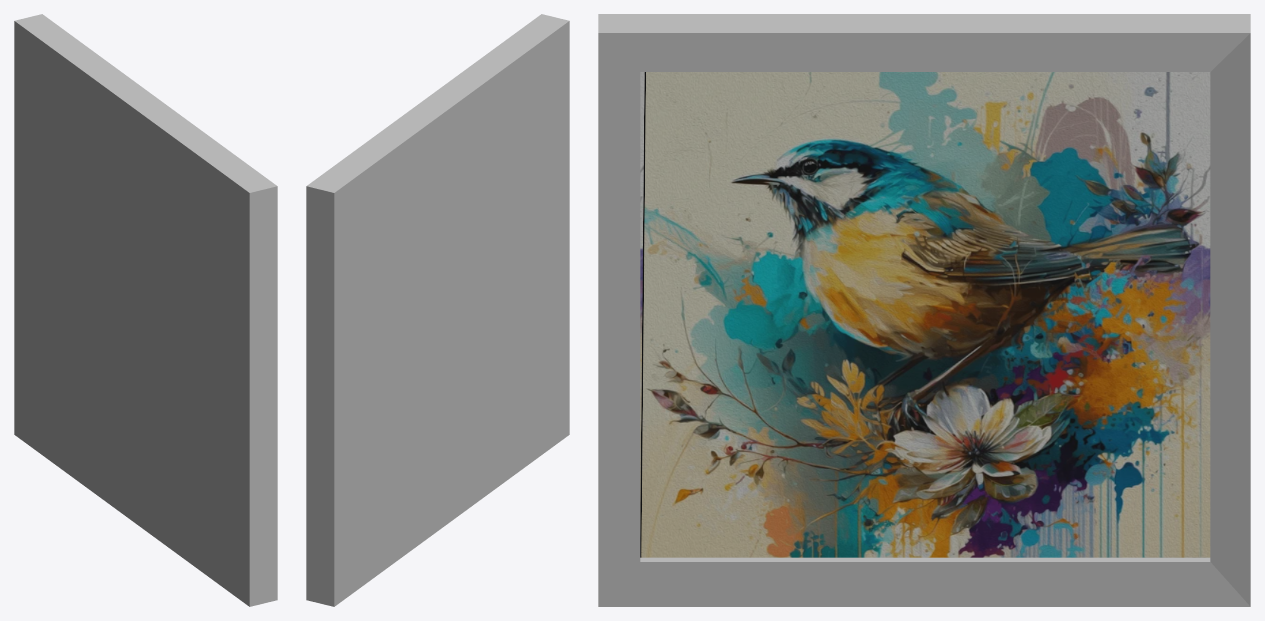
The model's file is bird.fbx.
3 renders of one model, left to right at view 1: azimuth 30°, elevation 25°; view 2: azimuth 150°, elevation 25°; view 3: azimuth 270°, elevation 25°, orthographic. The views are drawn at different scales.
Parts seen in each view (by area): view 1: Cube.001; view 2: Cube.001; view 3: Cube, Cube.001.
Boxes of the visible parts, bbox=[...] form: Cube.001: bbox=[14, 14, 277, 606]; Cube.001: bbox=[306, 14, 569, 606]; Cube: bbox=[640, 72, 1210, 557]; Cube.001: bbox=[598, 14, 1250, 606].
Size of the model in its own units: 14.14 by 200 by 206.
